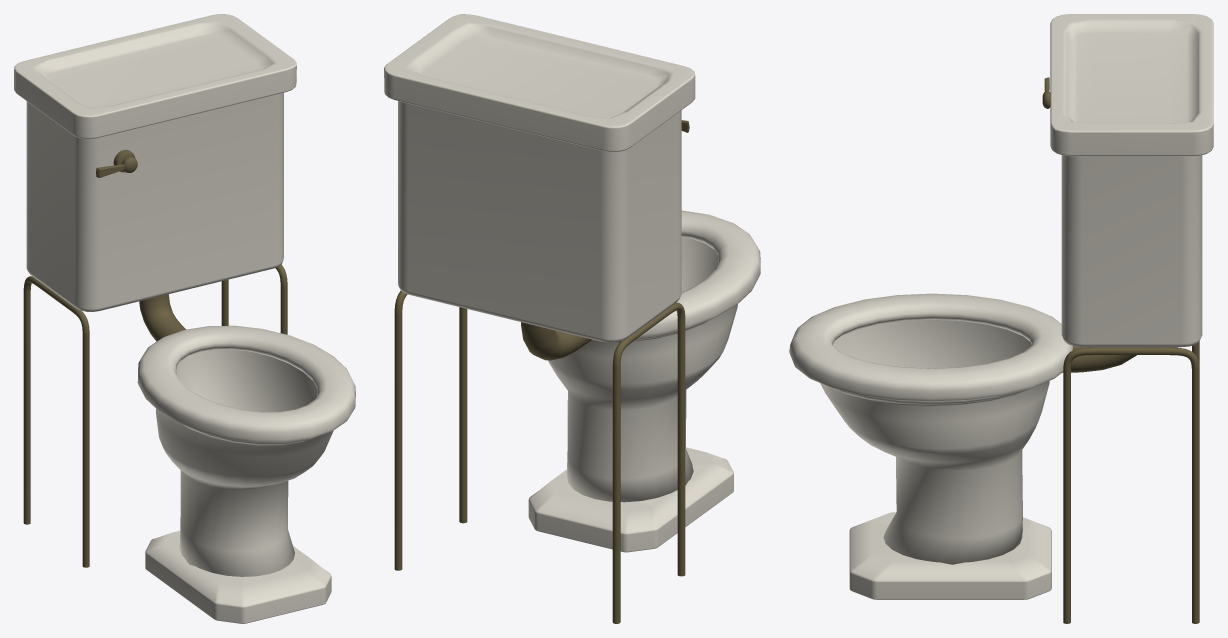
Rendered from AP_Toilet001_HB.fbx.
The picture shows the model from 3 angles, left to right: view 1: azimuth 30°, elevation 25°; view 2: azimuth 150°, elevation 25°; view 3: azimuth 270°, elevation 25°; orthographic projection. The views are drawn at different scales.
Parts seen in each view (by area): view 1: pCube1, pCylinder9, pCylinder10, pCube2, pCylinder5, pCylinder8, pCylinder11; view 2: pCube1, pCylinder9, pCylinder5, pCube2, pCylinder10, pCylinder8; view 3: pCube1, pCylinder9, pCylinder10, pCube2, pCylinder5, pCylinder8.
Part boxes in pixels (box(x1,y1,x2,y2)): pCube1: box(14, 14, 296, 311); pCylinder9: box(156, 349, 333, 576); pCylinder10: box(137, 325, 355, 442); pCube2: box(145, 531, 331, 623); pCylinder5: box(23, 264, 287, 567); pCylinder8: box(139, 294, 186, 341); pCylinder11: box(96, 149, 137, 177); pCube1: box(384, 14, 695, 342); pCylinder9: box(548, 237, 737, 502); pCylinder5: box(394, 290, 685, 623); pCube2: box(528, 447, 733, 552); pCylinder10: box(638, 210, 760, 337); pCylinder8: box(521, 322, 591, 360); pCube1: box(1050, 14, 1213, 347); pCylinder9: box(820, 319, 1049, 564); pCylinder10: box(789, 293, 1072, 401); pCube2: box(849, 512, 1051, 599); pCylinder5: box(1063, 341, 1199, 623); pCylinder8: box(1062, 346, 1136, 372).
Bounding box in the file's own units: 0.4733 × 0.93 × 0.7197.
